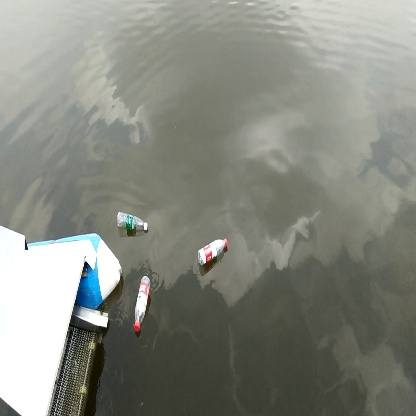bottle: (130, 274, 156, 335), (196, 233, 232, 267), (114, 209, 151, 233)
